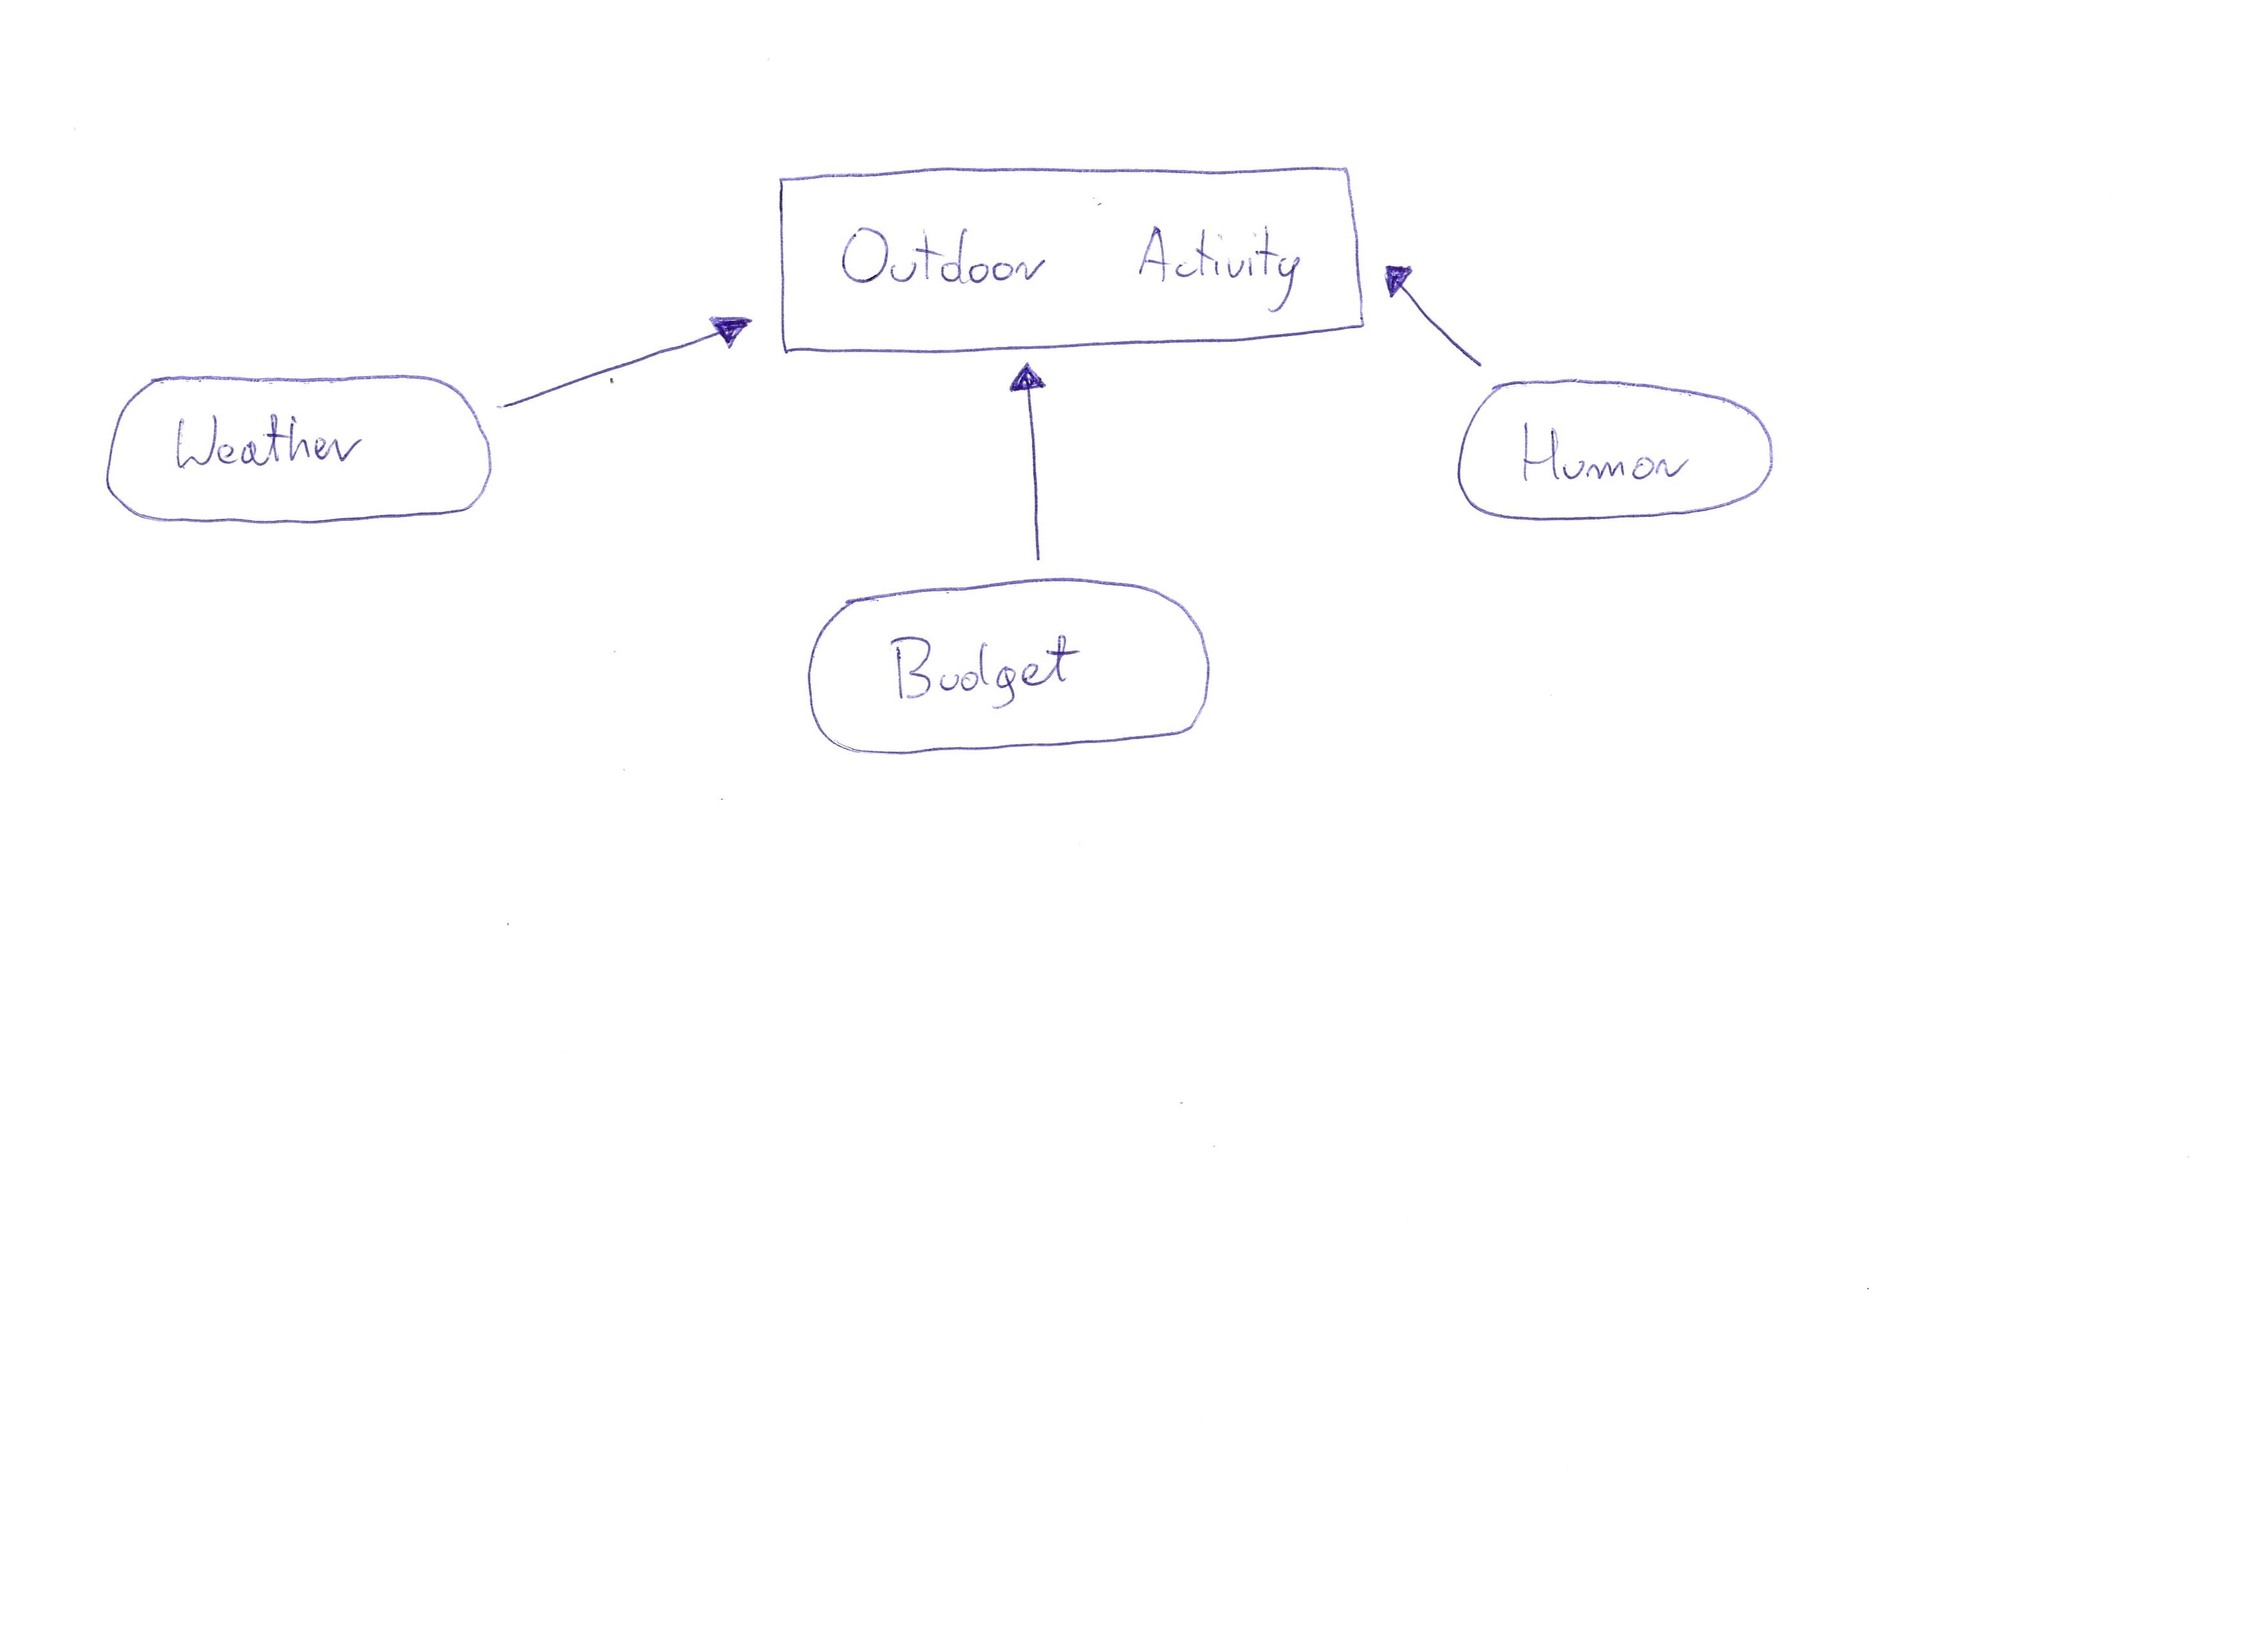arrow_information_requirement: (497, 298, 759, 451), (995, 359, 1076, 567), (1377, 255, 1497, 372)
node_decision: (769, 160, 1372, 359)
node_input_data: (799, 573, 1222, 759), (97, 365, 497, 541), (1447, 373, 1794, 534)
text: (828, 211, 1315, 319), (877, 622, 1093, 717), (169, 405, 377, 483), (1506, 414, 1703, 495)
